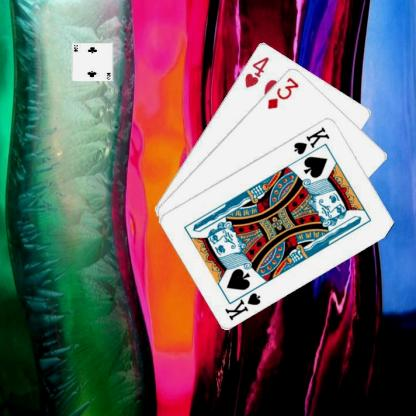3D: (265, 74, 300, 110)
4H: (242, 53, 270, 89)
KS: (222, 283, 262, 321), (291, 124, 331, 156)
